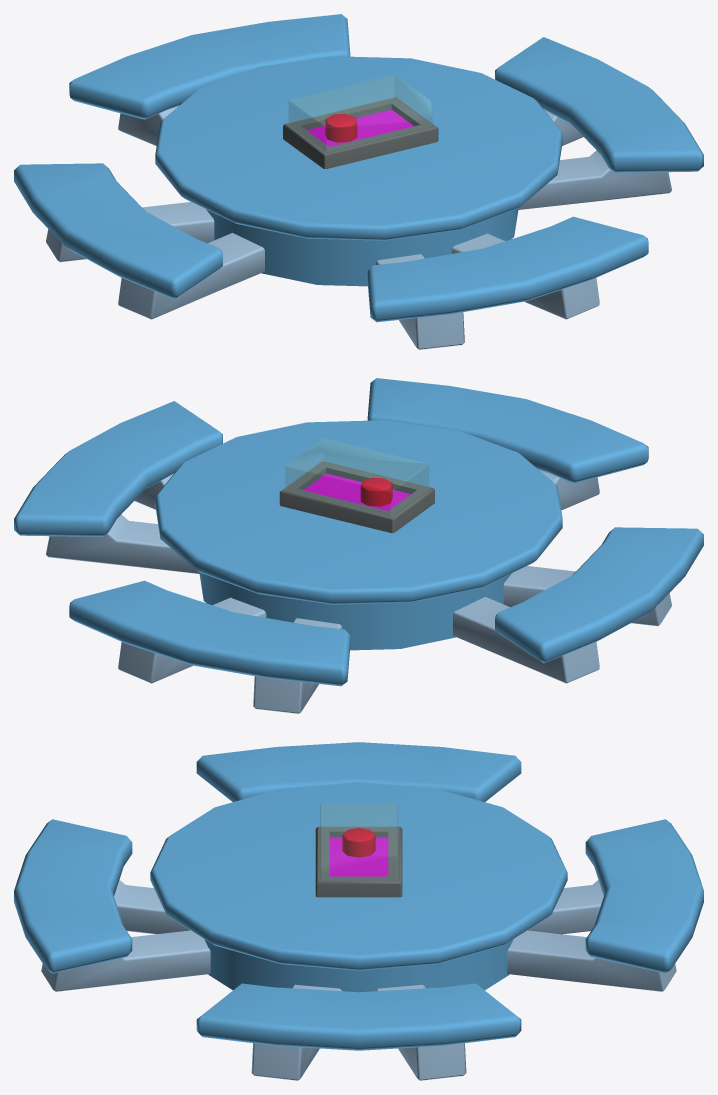
The model's file is Emergency.fbx.
3 renders of one model, top to bottom at view 1: azimuth 30°, elevation 25°; view 2: azimuth 150°, elevation 25°; view 3: azimuth 270°, elevation 25°, orthographic.
Visible parts, largest first — view 1: Table, box2, box1, button; view 2: Table, box2, box1, button; view 3: Table, box2, box1, button.
Part boxes in pixels (x1,y1,x2,y2): Table: (14,14,703,349); box2: (289,74,432,151); box1: (283,97,438,168); button: (325,113,357,142); Table: (14,378,703,713); box2: (285,438,428,515); box1: (279,461,434,532); button: (360,477,392,506); Table: (14,742,703,1080); box2: (320,803,397,879); box1: (315,826,402,897); button: (342,828,375,857).
Size of the model in its own units: 7.73 by 1.49 by 7.73.
